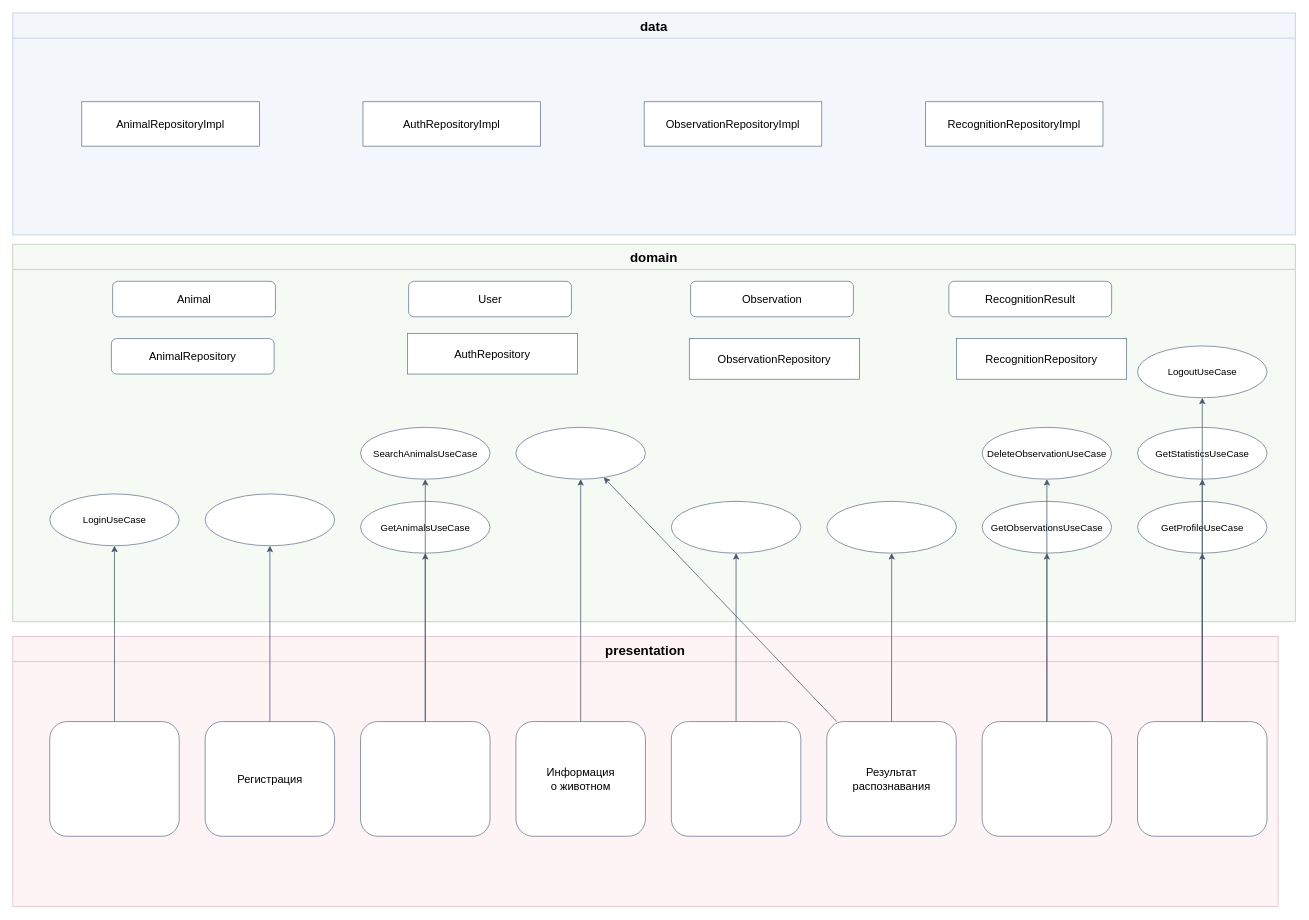
The diagram is 1309 pixels wide and 920 high, and some of its shapes have lost their labels. The centre of each missing label's shape, as x and y in pixels:
"GetAnimalDetailsUseCase" belongs at point 580,453.
"RecognizeAnimalUseCase" belongs at point 736,527.
"RegisterUseCase" belongs at point 269,519.
"SaveObservationUseCase" belongs at point 891,527.
"Авторизация" belongs at point 114,778.
"Каталог животных" belongs at point 425,778.
"Личная коллекция" belongs at point 1046,778.
"Профиль и достижения" belongs at point 1202,778.
"Распознавание животного" belongs at point 736,778.
